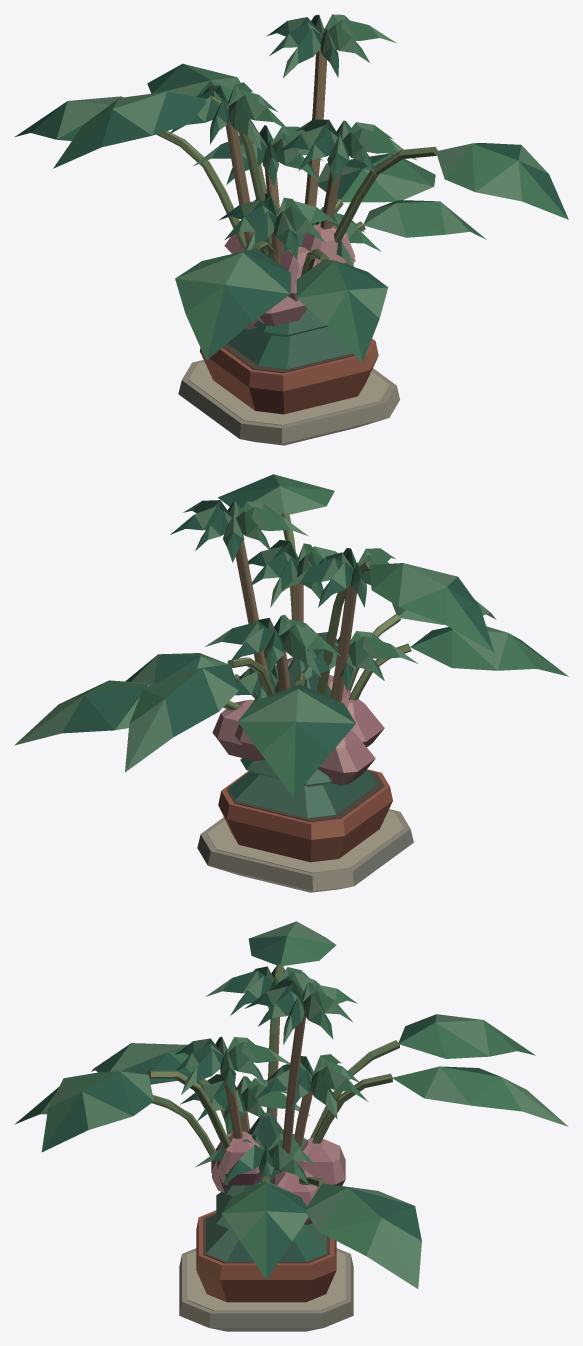
The model's file is foliage-v2.glb.
The picture shows the model from 3 angles, top to bottom: view 1: azimuth 30°, elevation 25°; view 2: azimuth 150°, elevation 25°; view 3: azimuth 270°, elevation 25°; orthographic projection. The views are drawn at different scales.
Visible parts, largest first — view 1: Alocasia, Dracaena, PinJardin, CerisierJardin; view 2: Alocasia, Dracaena, PinJardin, CerisierJardin; view 3: Alocasia, Dracaena, CerisierJardin, PinJardin.
Boxes of the visible parts, x1,y1,x2,y2 form: Alocasia: (15, 63, 568, 414); Dracaena: (169, 14, 417, 445); PinJardin: (227, 231, 352, 369); CerisierJardin: (224, 223, 355, 329); Alocasia: (14, 474, 568, 862); Dracaena: (170, 500, 418, 892); PinJardin: (227, 658, 377, 818); CerisierJardin: (212, 657, 384, 785); Alocasia: (14, 921, 568, 1302); Dracaena: (175, 963, 368, 1331); CerisierJardin: (211, 1131, 345, 1224); PinJardin: (206, 1112, 326, 1261).
Bounding box in the file's own units: 2.29 × 1.85 × 2.71.
